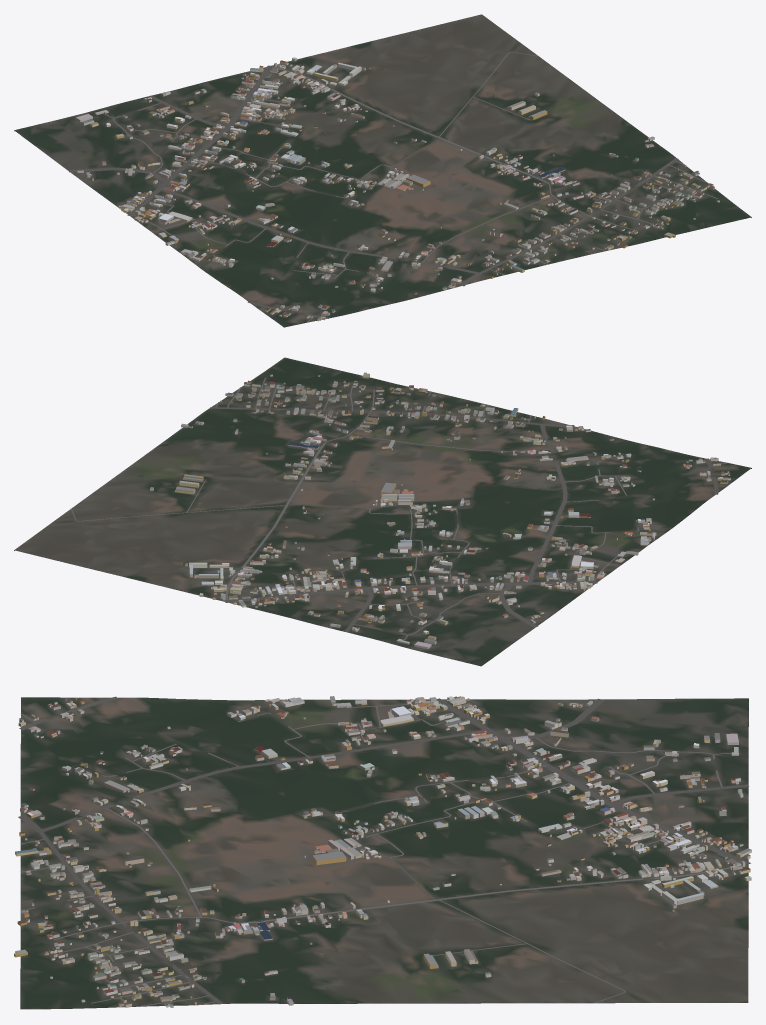
The picture shows the model from 3 angles, top to bottom: view 1: azimuth 30°, elevation 25°; view 2: azimuth 150°, elevation 25°; view 3: azimuth 270°, elevation 25°; orthographic projection. The views are drawn at different scales.
Visible parts, largest first — view 1: ground, buildings, roads; view 2: ground, buildings, roads; view 3: ground, buildings, roads.
Part boxes in pixels (x1=…): ground: x1=14, y1=14, x2=751, y2=327; buildings: x1=75, y1=57, x2=719, y2=321; roads: x1=68, y1=52, x2=718, y2=322; ground: x1=14, y1=357, x2=751, y2=666; buildings: x1=150, y1=372, x2=730, y2=649; roads: x1=71, y1=377, x2=727, y2=640; ground: x1=20, y1=697, x2=748, y2=1009; buildings: x1=14, y1=696, x2=751, y2=1007; roads: x1=18, y1=696, x2=750, y2=1006.
Bounding box in the file's own units: 1413 × 27.39 × 1420.
